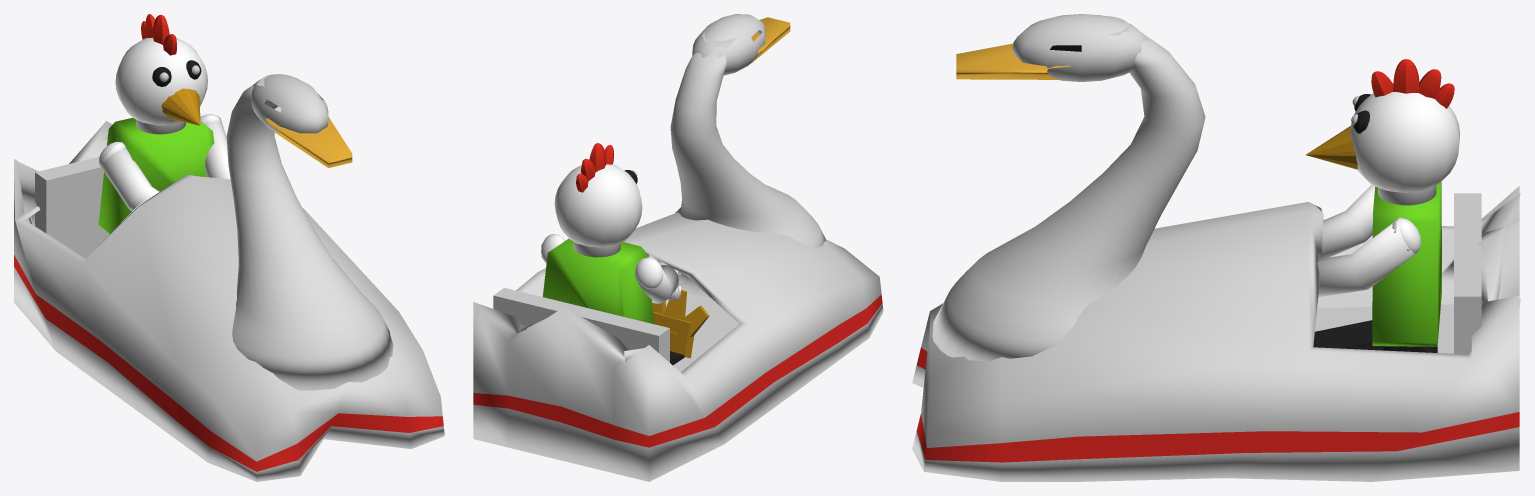
Rendered from PEDALINHOPATO+GALINHA.fbx.
The picture shows the model from 3 angles, left to right: view 1: azimuth 30°, elevation 25°; view 2: azimuth 150°, elevation 25°; view 3: azimuth 270°, elevation 25°; orthographic projection. The views are drawn at different scales.
Visible parts, largest first — view 1: Cubo.001, Esfera UV.001; view 2: Cubo.001, Esfera UV.001; view 3: Cubo.001, Esfera UV.001.
Boxes of the visible parts, <box> form: Cubo.001: <box>14,74,444,481</box>; Esfera UV.001: <box>98,14,230,233</box>; Cubo.001: <box>473,14,883,481</box>; Esfera UV.001: <box>541,143,709,365</box>; Cubo.001: <box>912,14,1520,481</box>; Esfera UV.001: <box>1306,59,1459,352</box>.
Size of the model in its own units: 388 by 548 by 756.
